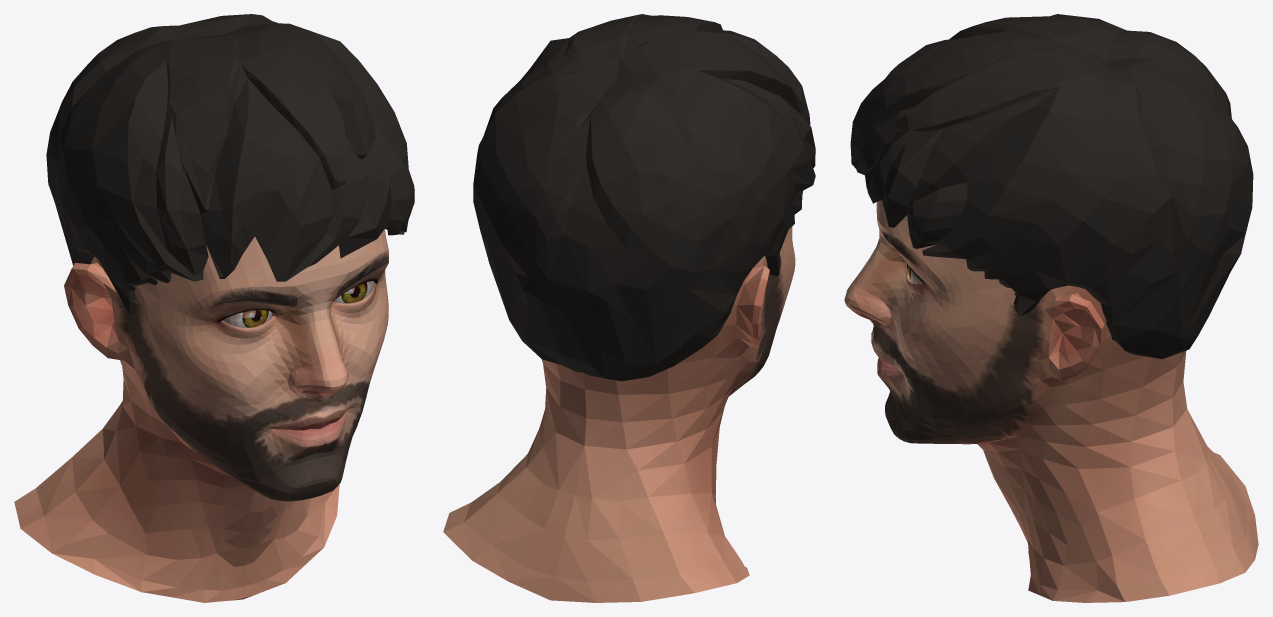
The model's file is dog.glb.
3 views of the same model, side by side, from view 1: azimuth 30°, elevation 25°; view 2: azimuth 150°, elevation 25°; view 3: azimuth 270°, elevation 25° (orthographic). The views are drawn at different scales.
Bounding box in the file's own units: 0.1919 × 0.3316 × 0.2286.
4 materials, 4 textured.
